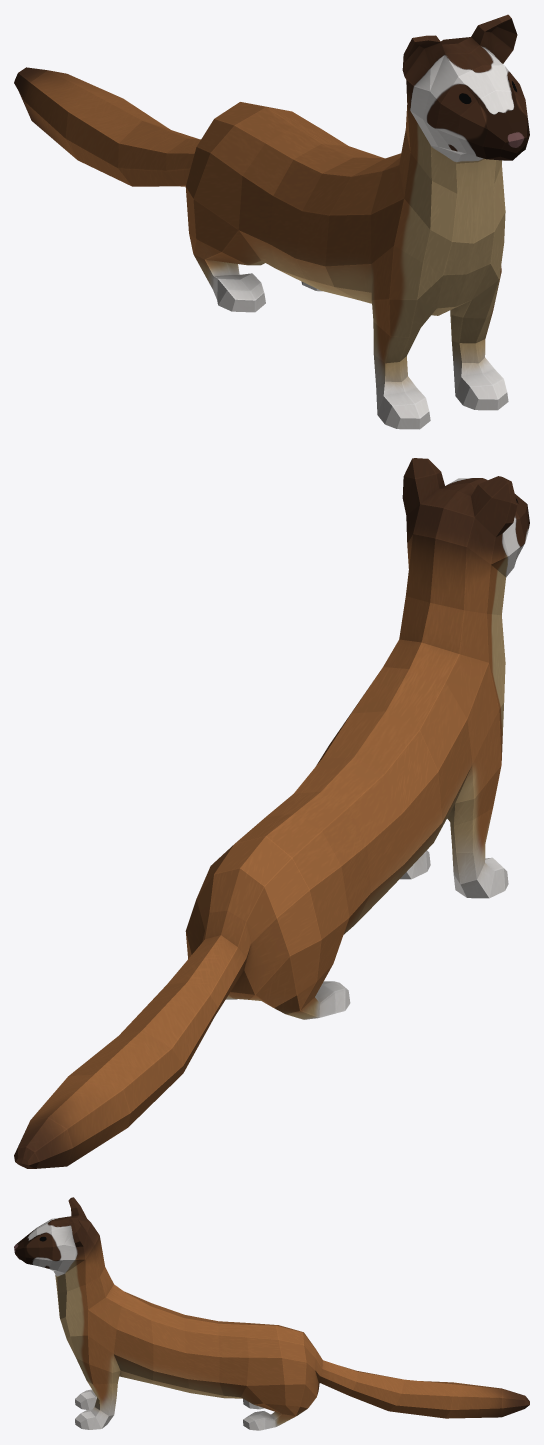
3 renders of one model, top to bottom at view 1: azimuth 30°, elevation 25°; view 2: azimuth 150°, elevation 25°; view 3: azimuth 270°, elevation 25°, orthographic. The views are drawn at different scales.
Visible parts, largest first — view 1: LongTailedWeasel_Mesh; view 2: LongTailedWeasel_Mesh; view 3: LongTailedWeasel_Mesh.
Part boxes in pixels (x1,y1,x2,y2): LongTailedWeasel_Mesh: (14,14,529,429); LongTailedWeasel_Mesh: (14,458,529,1168); LongTailedWeasel_Mesh: (14,1197,529,1430).
Size of the model in its own units: 1.02 by 3.02 by 6.85.
1 material, 1 textured.
